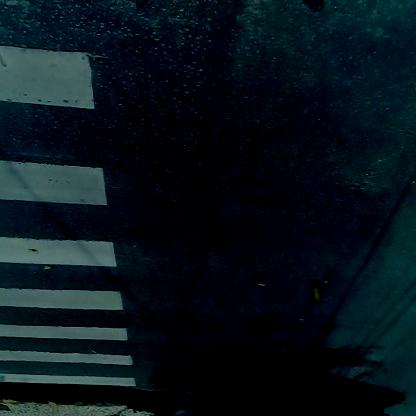crosswalk: (1, 27, 137, 387)
sidewalk: (3, 376, 152, 416)
